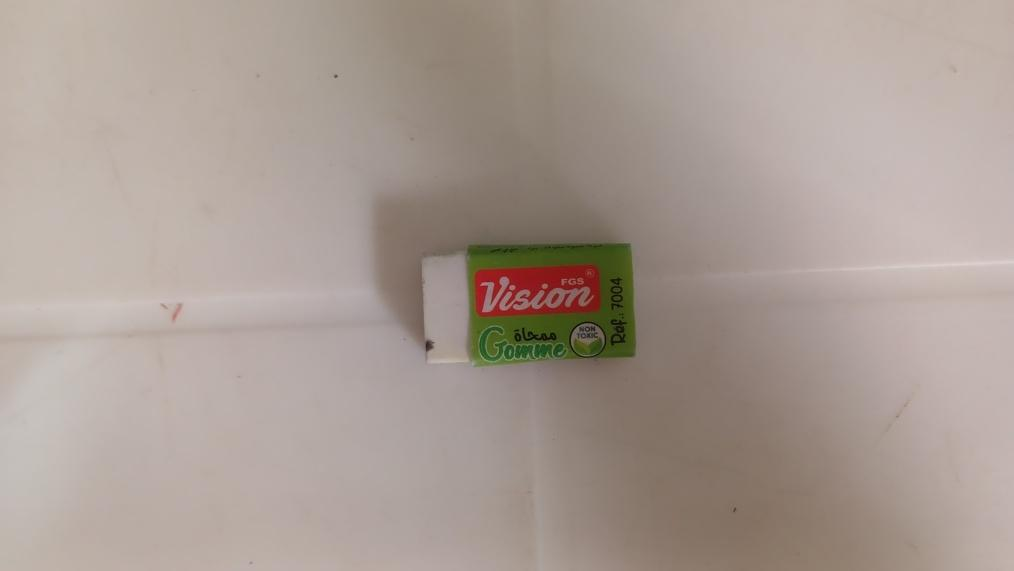Eraser: (416, 241, 635, 365)
